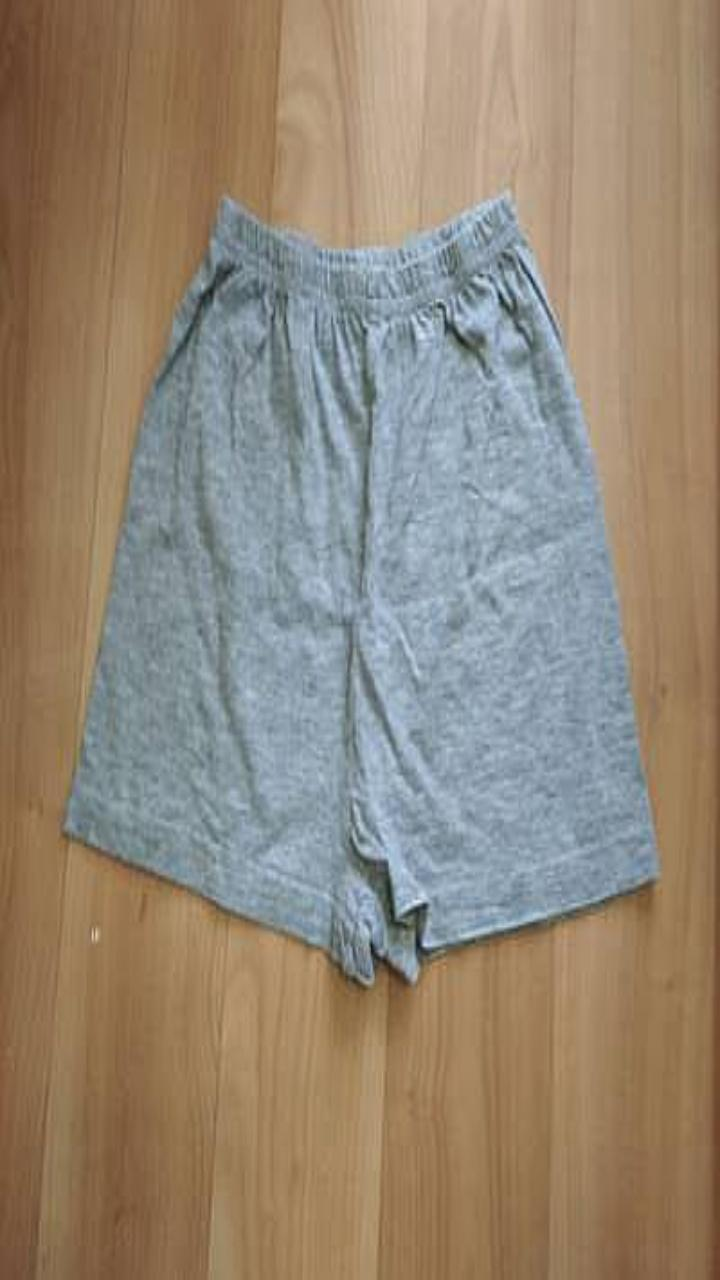Shorts: (63, 189, 658, 985)
